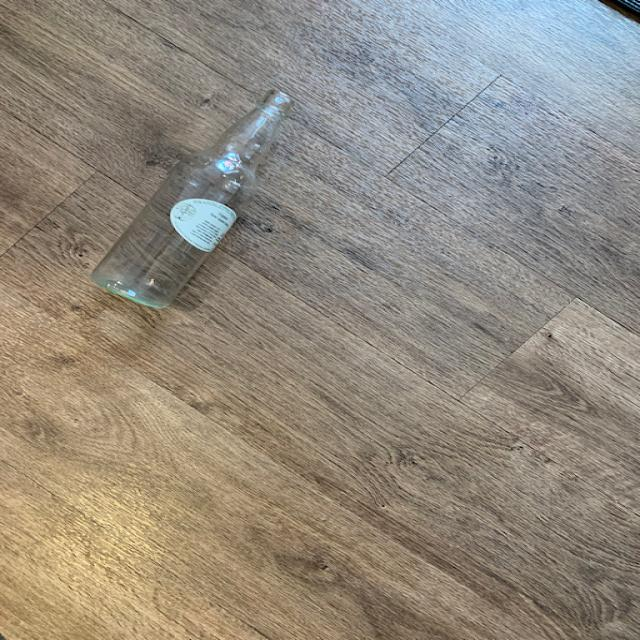Glass Bottle: (84, 86, 298, 316)
